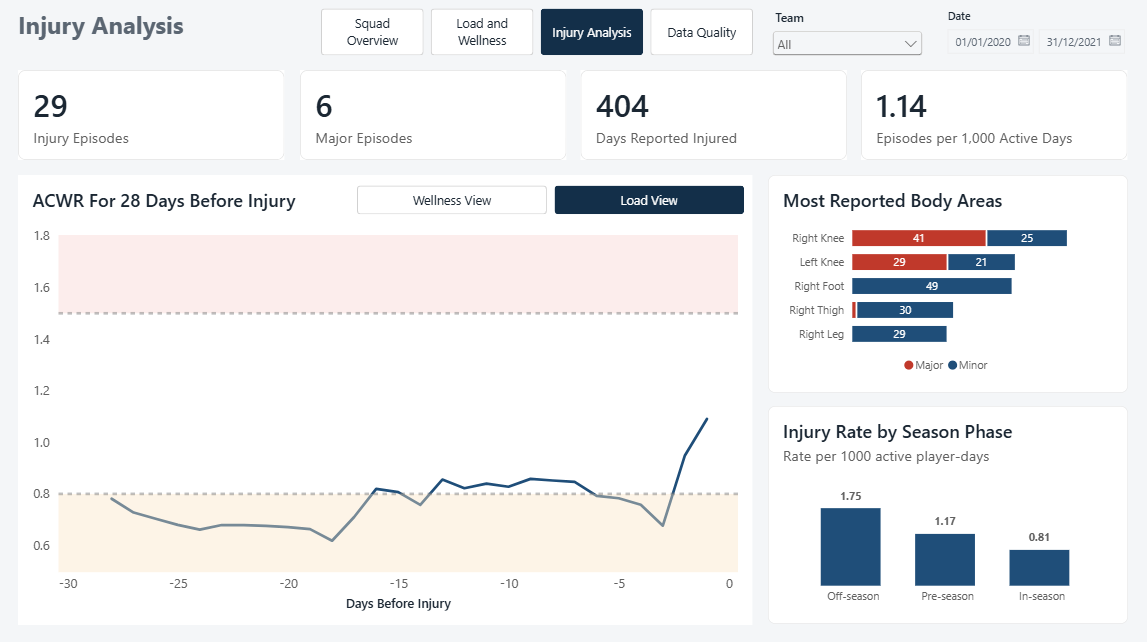

Layout of this report page (visuals, bound fields, positions):
{"tool":"powerbi","page":{"name":"Injury Analysis","canvas":[1280,720],"ordinal":2},"visuals":[{"type":"cardVisual","title":"Injury Episodes KPI","fields":{"Data":["_Measure.Injury Episodes"]},"box":[24,80,296,100],"z":0},{"type":"cardVisual","title":"Ep per 1000 Hrs KPI","fields":{"Data":["_Measure.Episodes per 1,000 Active Days"]},"box":[960,80,296,100],"z":1000},{"type":"cardVisual","title":"Days Reported Injured KPI","fields":{"Data":["_Measure.Days Injured"]},"box":[648,80,296,100],"z":2000},{"type":"cardVisual","title":"Major Episodes KPI","fields":{"Data":["_Measure.Major Episodes"]},"box":[336,80,296,100],"z":3000},{"type":"barChart","title":"Most Reported Body Areas","fields":{"Category":["InjuryReports.BodyArea"],"Series":["InjuryReports.Severity"],"Y":["_Measure.Body-Area Reports"]},"box":[856,196,400,242],"z":5000},{"type":"textbox","title":"Title","box":[24,12,320,52],"z":6000},{"type":"pageNavigator","box":[360,12,480,52],"z":7000},{"type":"slicer","title":"Team Slicer","fields":{"Values":["Players.Team"]},"box":[856,12,176,52],"z":8000},{"type":"slicer","title":"Date Slicer","fields":{"Values":["Date.Date"]},"box":[1048,12,208,52],"z":9000},{"type":"clusteredColumnChart","title":"Injury Rate by Season Phase","fields":{"Category":["Date.Phase"],"Y":["_Measure.Episodes per 1,000 Active Days"]},"box":[856,454,400,242],"z":10000},{"type":"lineChart","title":"ACWR For 28 Days Before Injury","fields":{"Category":["LeadUp.Day Offset"],"Y":["_Measure.Lead-up ACWR"]},"box":[24,196,816,500],"z":11000},{"type":"bookmarkNavigator","box":[400,208,430,32],"z":12000}]}

Visuals, with their boxes in screenshot pixels (x1, y1, x2, y2), scaled from the page's 1280x720 canvas onto the 1147x642 screenshot:
"Injury Episodes KPI" cardVisual: [x1=22, y1=71, x2=287, y2=160]
"Ep per 1000 Hrs KPI" cardVisual: [x1=860, y1=71, x2=1125, y2=160]
"Days Reported Injured KPI" cardVisual: [x1=581, y1=71, x2=846, y2=160]
"Major Episodes KPI" cardVisual: [x1=301, y1=71, x2=566, y2=160]
"Most Reported Body Areas" barChart: [x1=767, y1=175, x2=1125, y2=391]
"Title" textbox: [x1=22, y1=11, x2=308, y2=57]
pageNavigator: [x1=323, y1=11, x2=753, y2=57]
"Team Slicer" slicer: [x1=767, y1=11, x2=925, y2=57]
"Date Slicer" slicer: [x1=939, y1=11, x2=1125, y2=57]
"Injury Rate by Season Phase" clusteredColumnChart: [x1=767, y1=405, x2=1125, y2=621]
"ACWR For 28 Days Before Injury" lineChart: [x1=22, y1=175, x2=753, y2=621]
bookmarkNavigator: [x1=358, y1=185, x2=744, y2=214]
